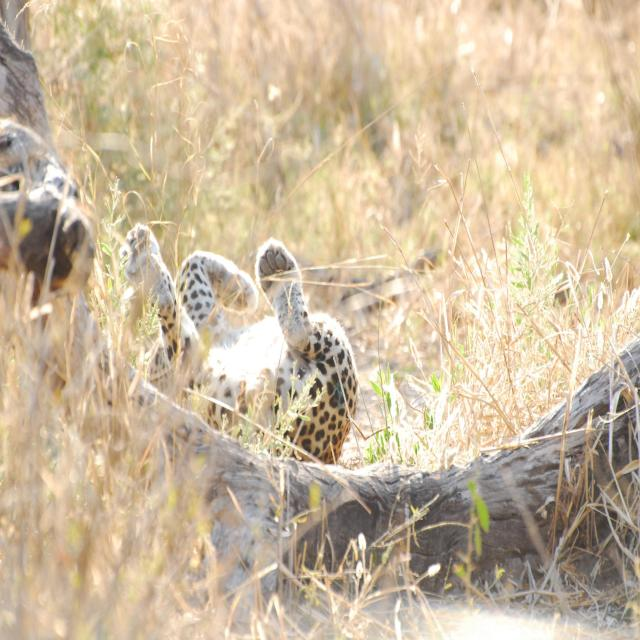Leopard: (141, 219, 391, 475)
